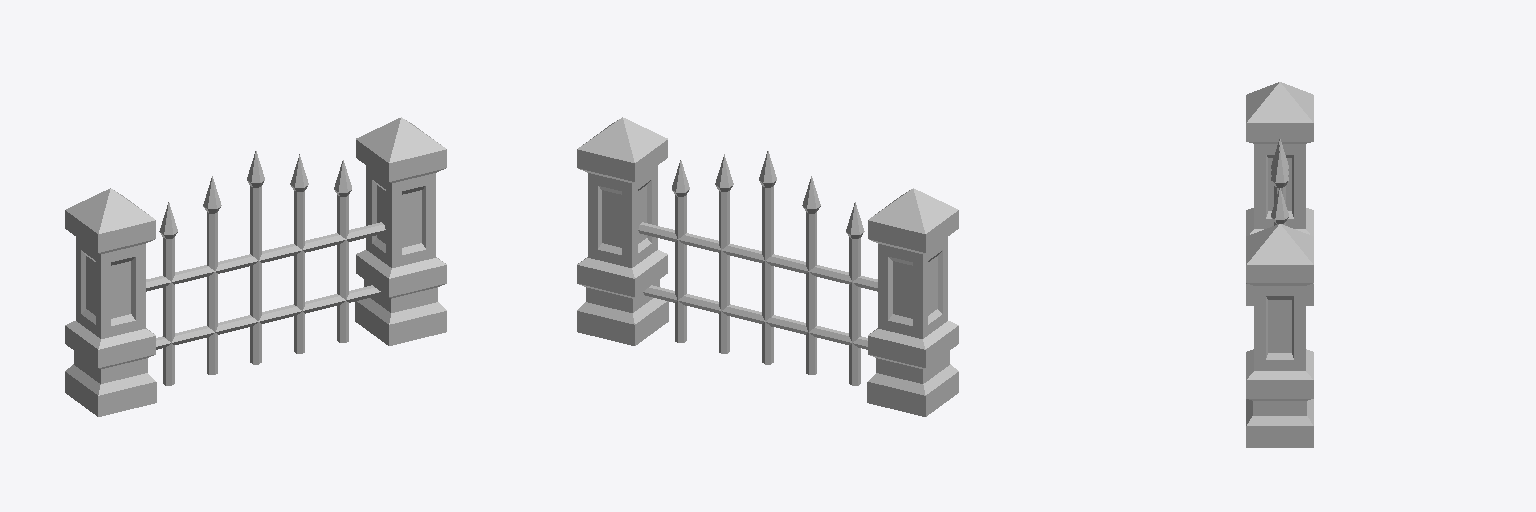
File: fenceSingle.obj
3 views of the same model, side by side, from view 1: azimuth 30°, elevation 25°; view 2: azimuth 150°, elevation 25°; view 3: azimuth 270°, elevation 25° (orthographic).
Parts seen in each view (by area): view 1: fenceSingle_Cylinder.082; view 2: fenceSingle_Cylinder.082; view 3: fenceSingle_Cylinder.082.
Part boxes in pixels (x1,y1,x2,y2): fenceSingle_Cylinder.082: (65, 117, 446, 416); fenceSingle_Cylinder.082: (577, 117, 958, 416); fenceSingle_Cylinder.082: (1246, 82, 1313, 447).
Size of the model in its own units: 2.4 by 1.4 by 0.4.